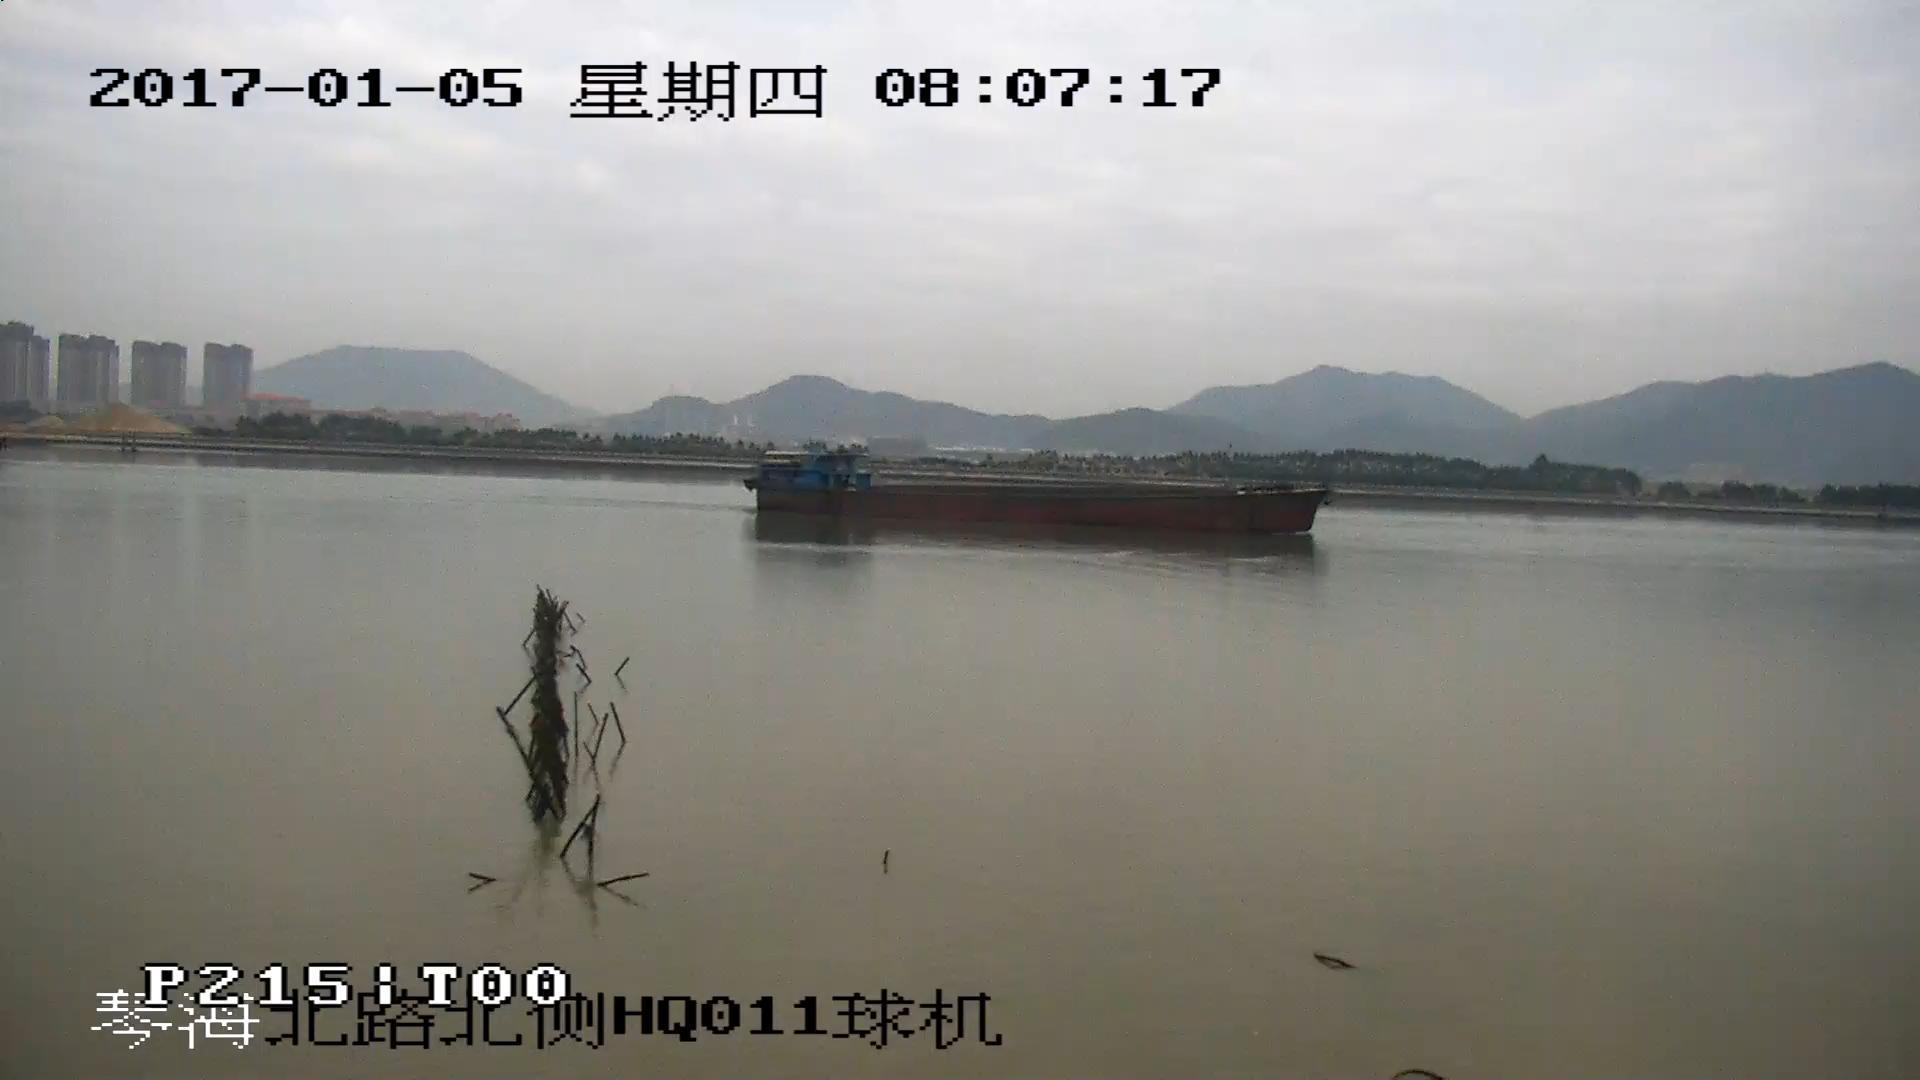Ship: (742, 448, 1331, 539)
